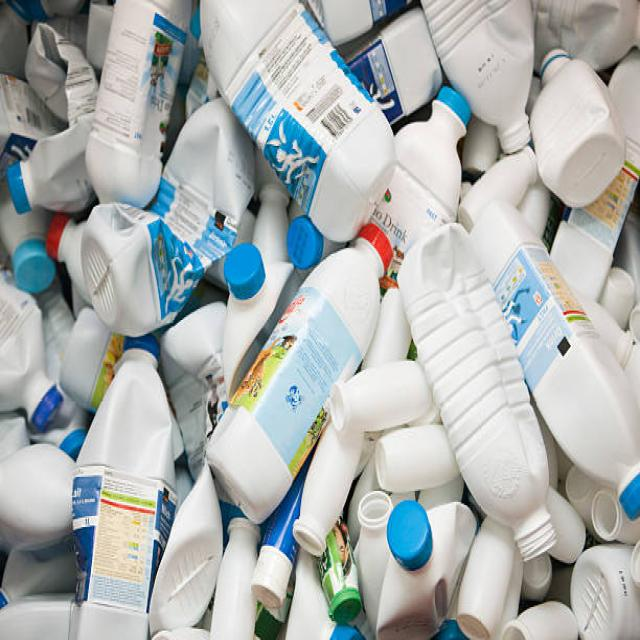plastic: (8, 16, 620, 612)
